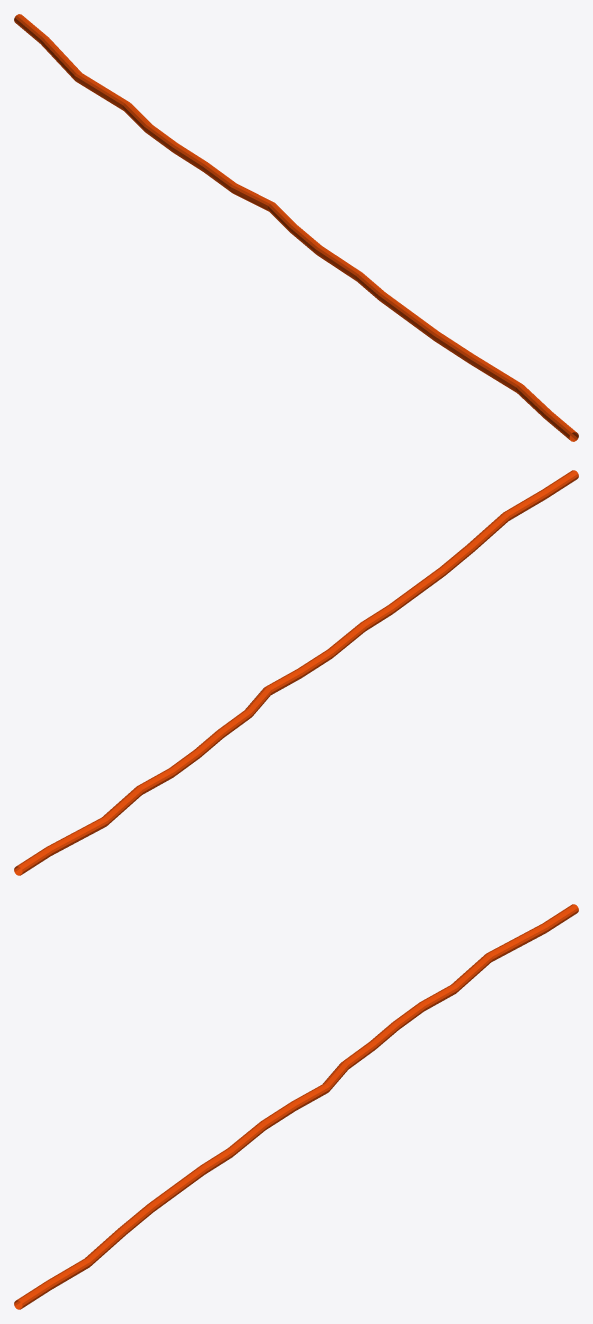
File: Cable8.fbx
3 views of the same model, one above another, from view 1: azimuth 30°, elevation 25°; view 2: azimuth 150°, elevation 25°; view 3: azimuth 330°, elevation 25° (orthographic). The views are drawn at different scales.
Parts seen in each view (by area): view 1: Vert.007; view 2: Vert.007; view 3: Vert.007.
Part boxes in pixels (bbox=[...]): Vert.007: bbox=[14, 14, 578, 441]; Vert.007: bbox=[14, 470, 578, 875]; Vert.007: bbox=[14, 904, 578, 1309].
Bounding box in the file's own units: 5.16 × 2 × 212.
